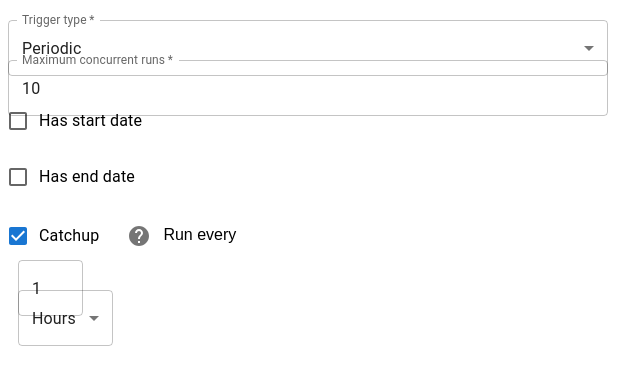
Test: Trigger › interval trigger › Hide invalid start date/time format message if start time checkbox is not selected.
Click the checkbox labelled "Has start date" at point(74, 121), box [6, 109, 142, 133]
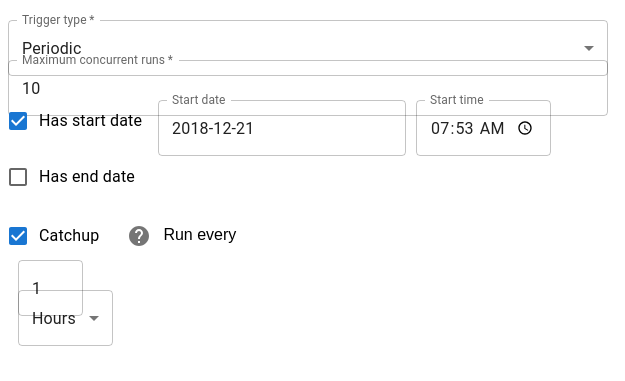
Replace the text in the field labelled "Start date" with "this_is_not_valid_date_format" at point(282, 128), box [158, 100, 406, 156]
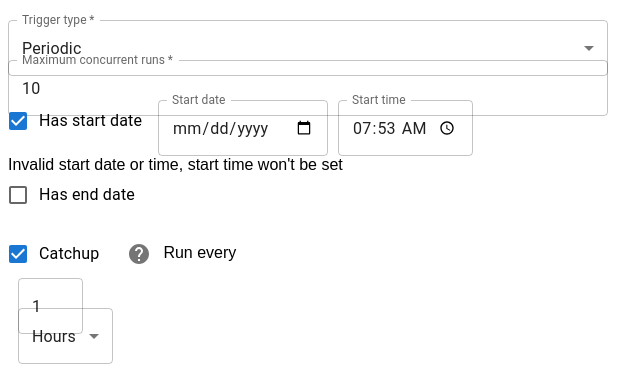
Result: the text "Invalid start date or time, start time won't be set" is shown at [8, 156, 343, 173]
Click the checkbox labelled "Has start date" at point(74, 121), box [6, 109, 142, 133]
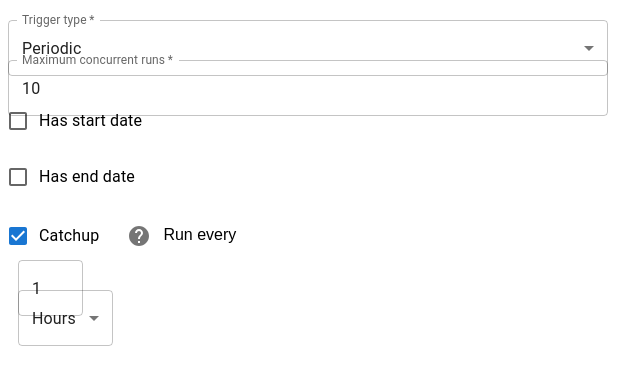
Result: the text "Invalid start date or time, start time won't be set" is gone
